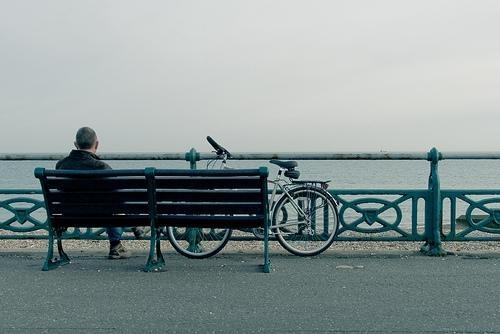bicycle: (168, 134, 340, 258)
